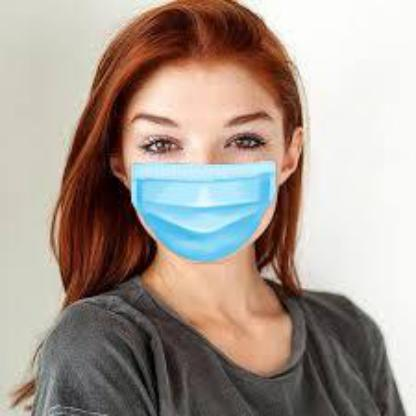Surgical Mask: (122, 70, 280, 252)
